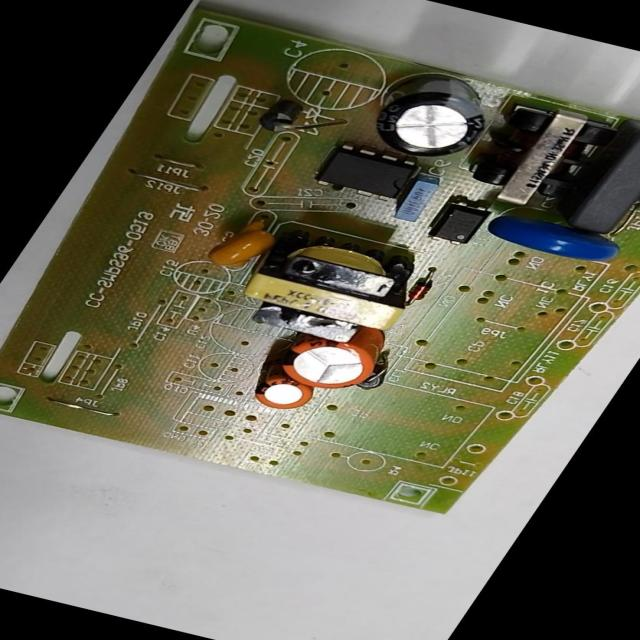Cap1: (268, 332, 387, 396)
Cap2: (245, 373, 318, 415)
Cap3: (363, 66, 507, 165)
MOSFET: (312, 142, 421, 204)
Mov: (481, 215, 624, 269)
Transformer: (230, 228, 437, 350), (456, 101, 619, 212)
